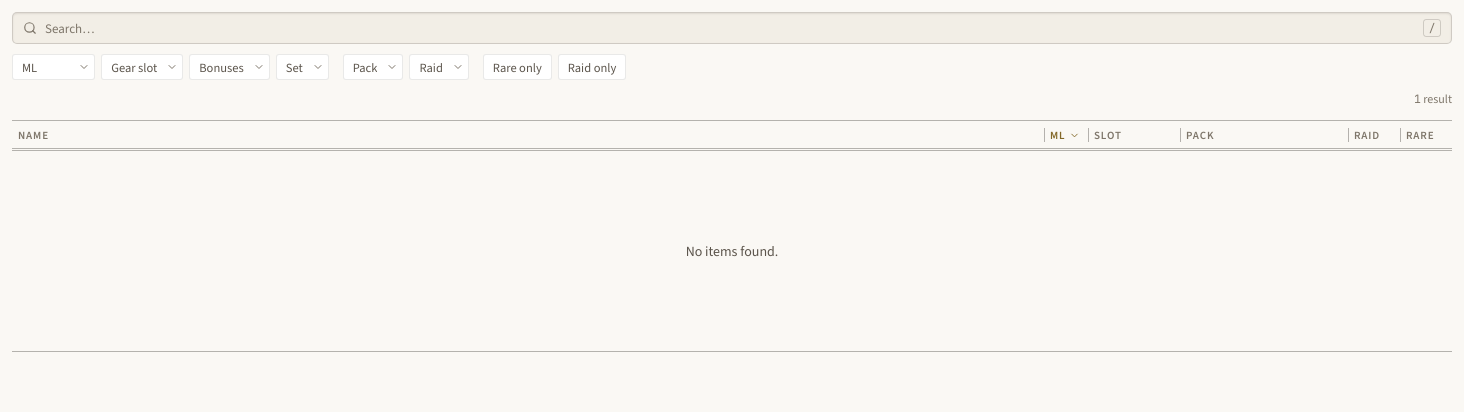
Test: ItemPicker page errors › names and clears a rejected Set value while preserving other filters
Expected: the element with class "resources-result-count" reads "1 result", x1=1414 y1=90 x2=1452 y2=110
Step 1. Click the button "Pack" → [373, 67], box x1=343 y1=54 x2=403 y2=80
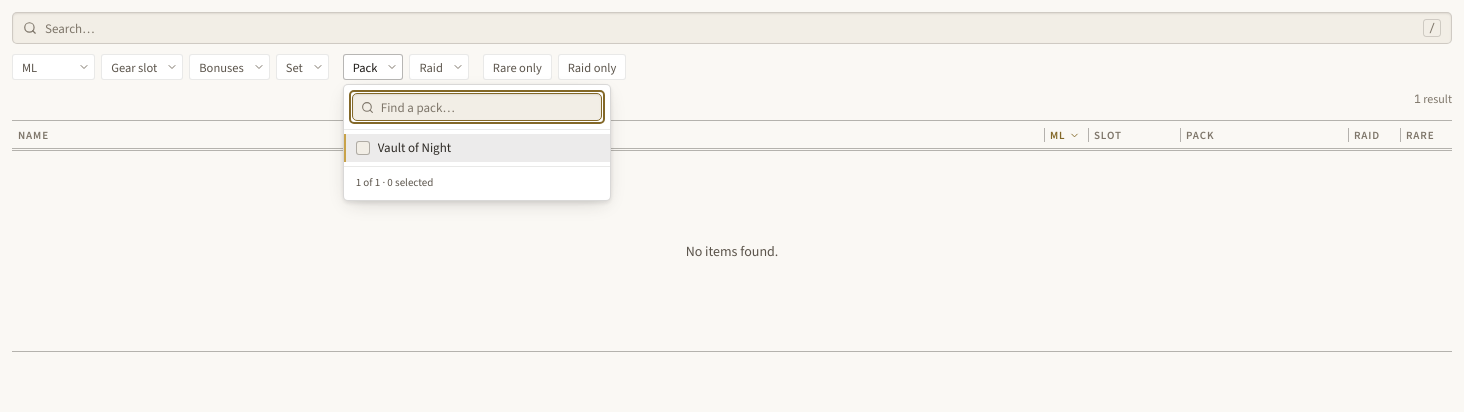
Step 2. Click the option "Vault of Night" → [414, 148], box x1=344 y1=134 x2=610 y2=162
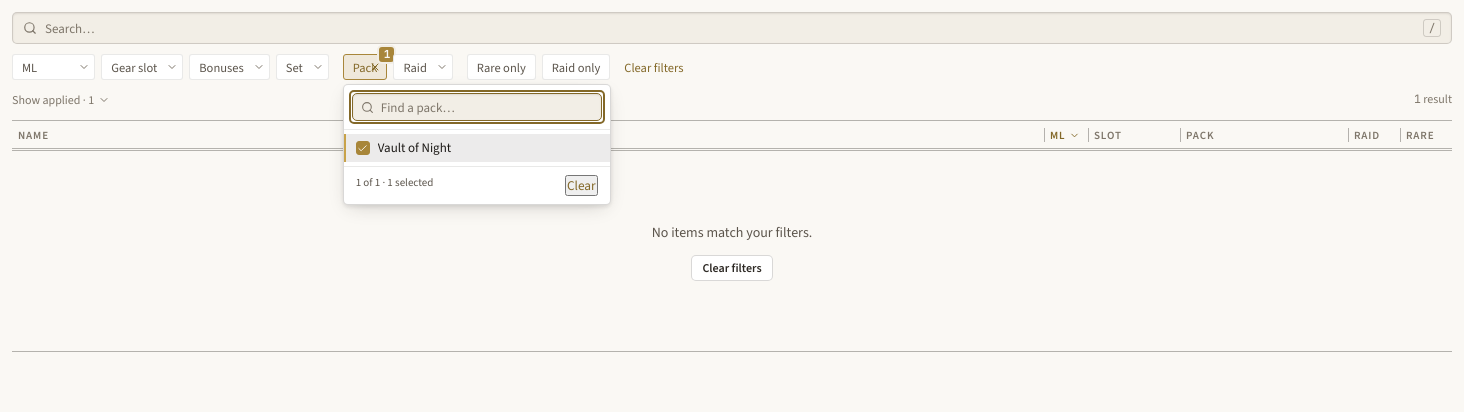
Step 3. Click the button "Set" → [302, 67], box x1=276 y1=54 x2=329 y2=80
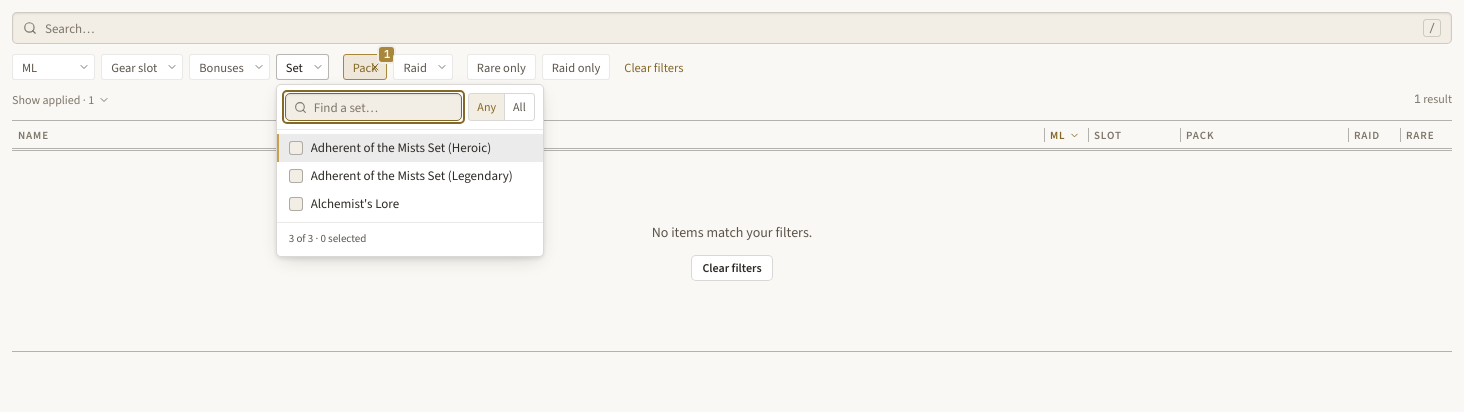
Step 4. Click the option "Adherent of the Mists Set (Heroic)" → [410, 148], box x1=277 y1=134 x2=543 y2=162
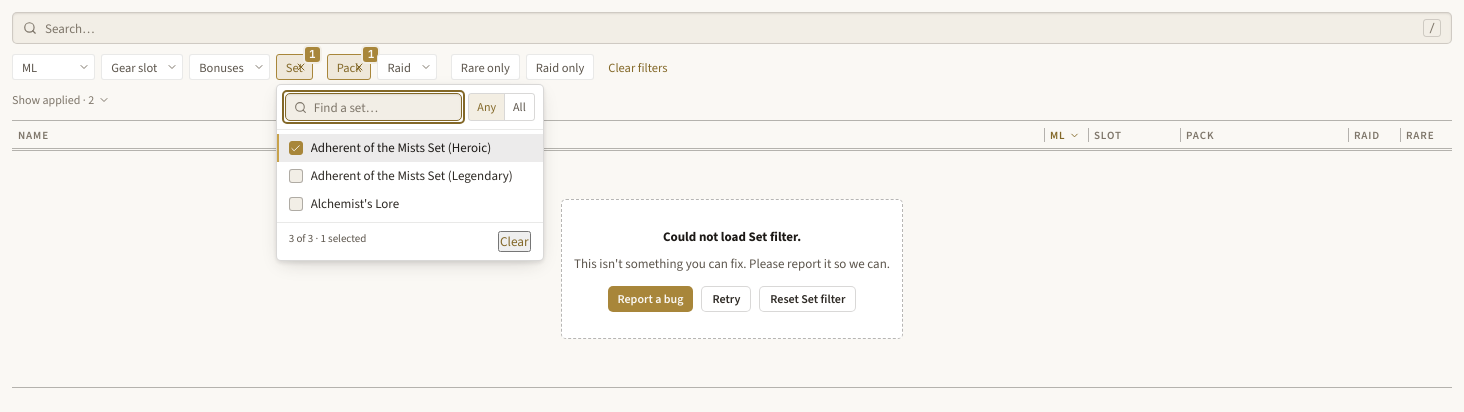
Expected: the text "Could not load Set filter." is shown, x1=663 y1=226 x2=801 y2=246
Expected: the button "Reset Set filter" is shown
Step 5. Click the button "Reset Set filter" → [808, 298], box x1=759 y1=286 x2=856 y2=312
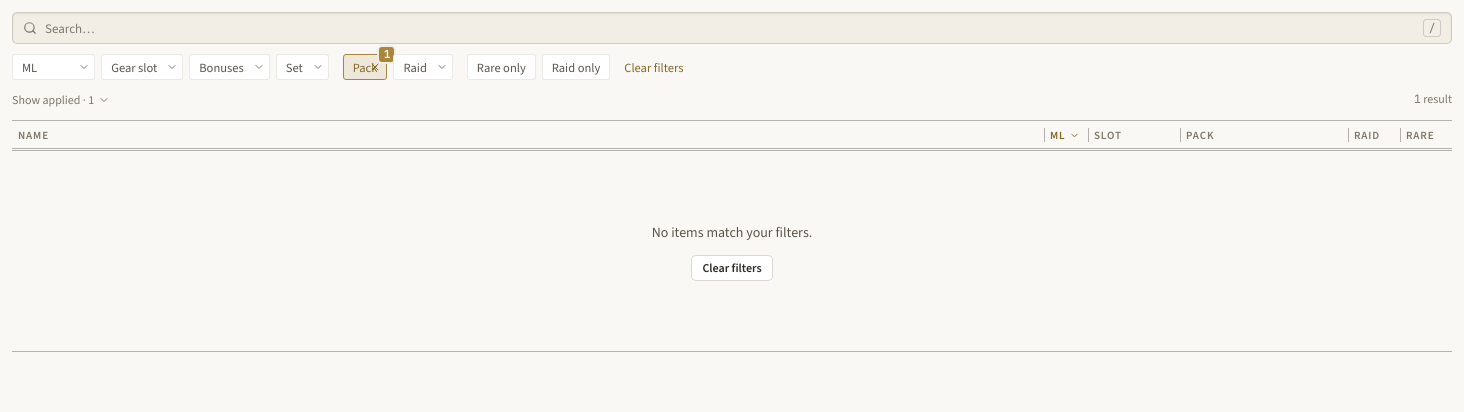
Expected: the element with class "resources-result-count" reads "1 result", x1=1414 y1=90 x2=1452 y2=110
Step 6. Click the button "Show applied · 1" → [61, 100], box x1=12 y1=90 x2=110 y2=110
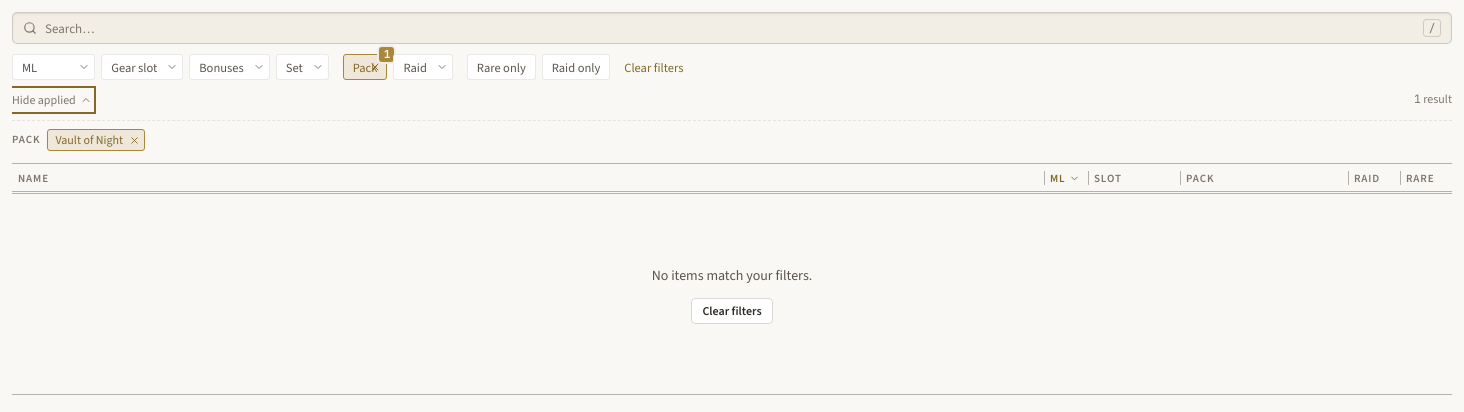
Expected: the button with aria-label "Remove Pack: Vault of Night" is shown, x1=47 y1=129 x2=145 y2=151
